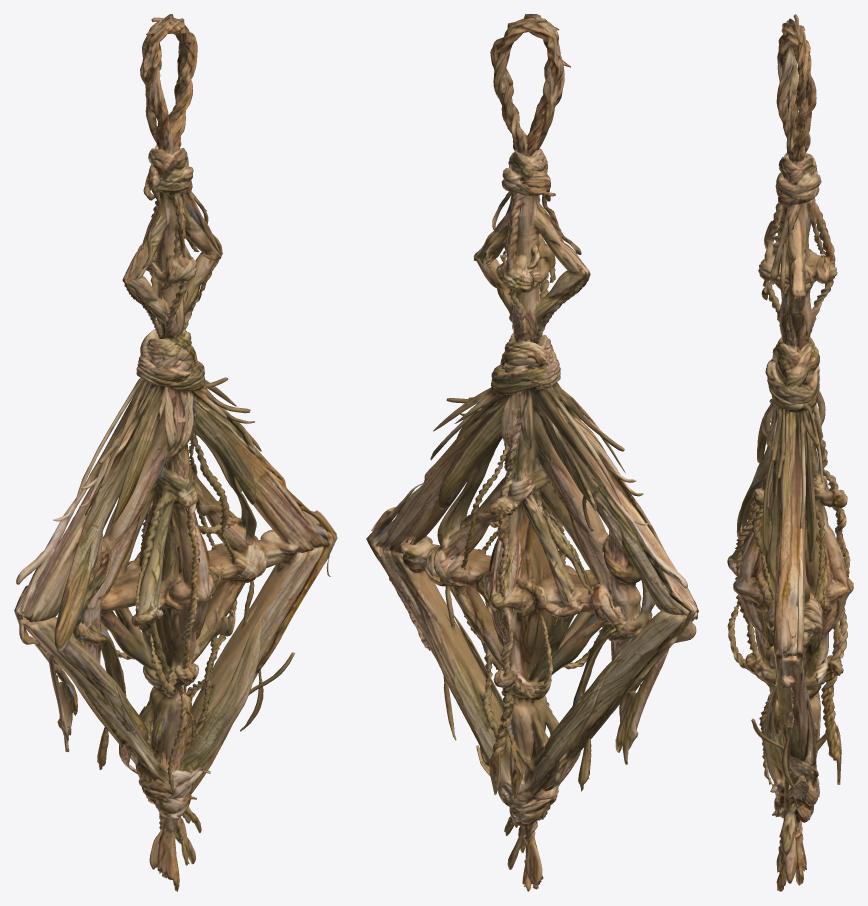
Rendered from om_elsaaf_Fregblend.fbx.
3 renders of one model, left to right at view 1: azimuth 30°, elevation 25°; view 2: azimuth 150°, elevation 25°; view 3: azimuth 270°, elevation 25°, orthographic.
Parts seen in each view (by area): view 1: om_elsaaf_Freg; view 2: om_elsaaf_Freg; view 3: om_elsaaf_Freg.
Part boxes in pixels (x1,y1,x2,y2): om_elsaaf_Freg: (14,14,337,891); om_elsaaf_Freg: (366,14,698,891); om_elsaaf_Freg: (727,14,853,891).
Size of the model in its own units: 37.98 by 98.6 by 12.97.
Materials: 1 (1 with a texture image).
